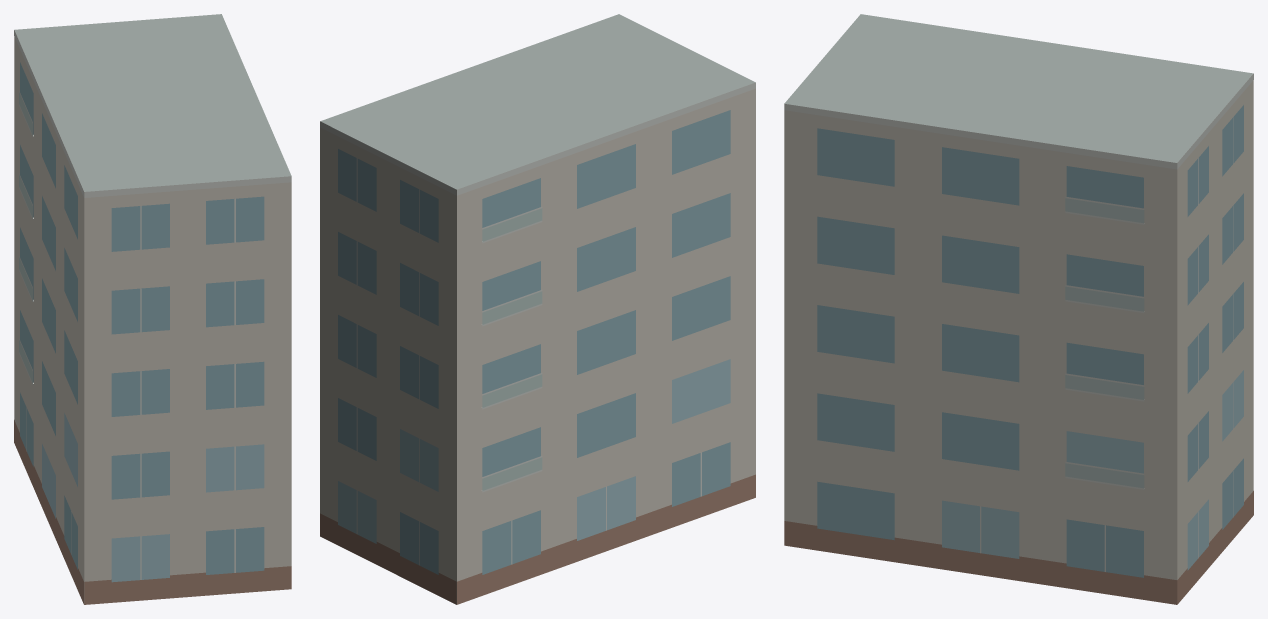
Rendered from survey-upis-32931039.glb.
3 views of the same model, side by side, from view 1: azimuth 30°, elevation 25°; view 2: azimuth 150°, elevation 25°; view 3: azimuth 270°, elevation 25° (orthographic). The views are drawn at different scales.
Parts seen in each view (by area): view 1: survey-upis-32931039.tmp; view 2: survey-upis-32931039.tmp; view 3: survey-upis-32931039.tmp.
Boxes of the visible parts, bbox=[...] form: survey-upis-32931039.tmp: bbox=[14, 14, 291, 604]; survey-upis-32931039.tmp: bbox=[320, 14, 755, 604]; survey-upis-32931039.tmp: bbox=[784, 14, 1253, 604].
Size of the model in its own units: 12.06 by 16.65 by 16.05.
